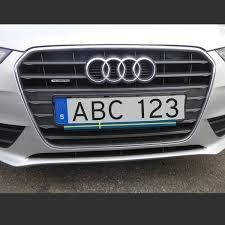license-plates: (54, 96, 186, 131)
